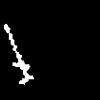double_crochet: (4, 24, 33, 84)
